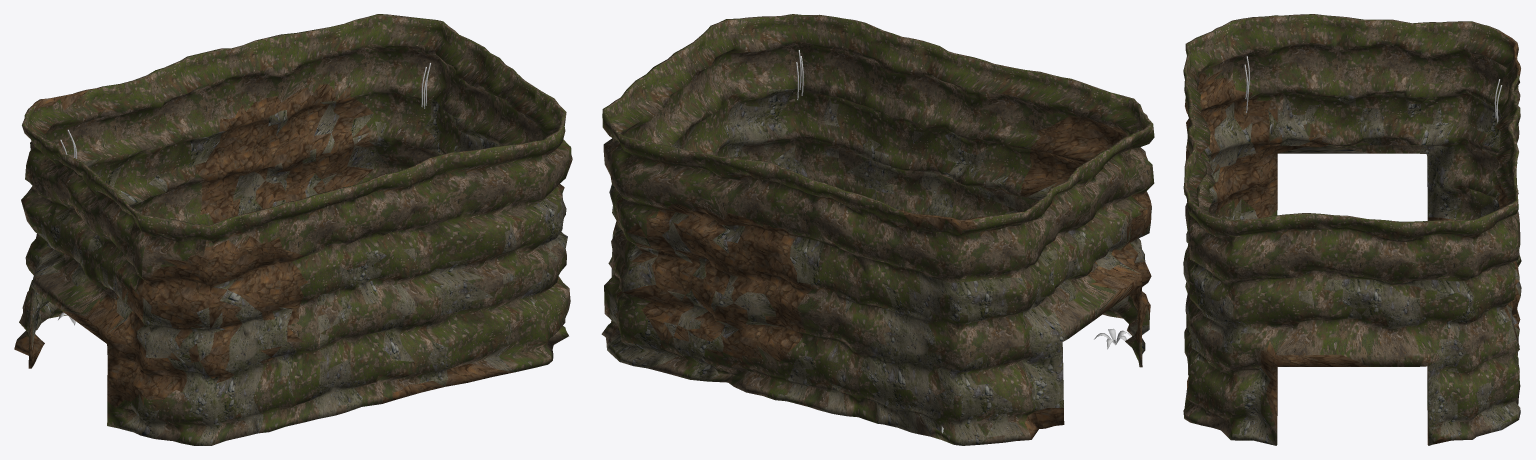
The model's file is cliff_lining_organic.obj.
3 views of the same model, side by side, from view 1: azimuth 30°, elevation 25°; view 2: azimuth 150°, elevation 25°; view 3: azimuth 270°, elevation 25° (orthographic). The views are drawn at different scales.
Parts seen in each view (by area): view 1: cliff_lining_Rock_skin; view 2: cliff_lining_Rock_skin; view 3: cliff_lining_Rock_skin.
Boxes of the visible parts, bbox=[...] form: cliff_lining_Rock_skin: bbox=[14, 14, 572, 445]; cliff_lining_Rock_skin: bbox=[601, 14, 1154, 445]; cliff_lining_Rock_skin: bbox=[1183, 14, 1521, 445].
Bounding box in the file's own units: 1304 × 637 × 870.
